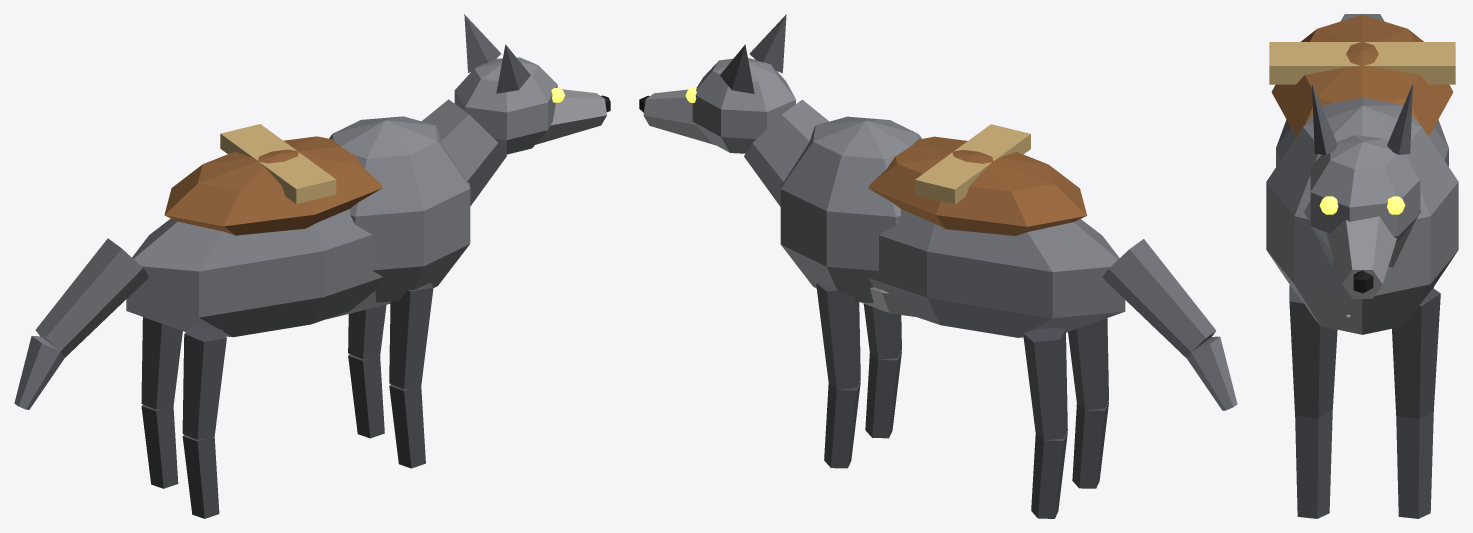
The model's file is wolf.glb.
The picture shows the model from 3 angles, left to right: view 1: azimuth 30°, elevation 25°; view 2: azimuth 150°, elevation 25°; view 3: azimuth 270°, elevation 25°; orthographic projection. The views are drawn at different scales.
Parts seen in each view (by area): view 1: body, pet_armor, head, tail, leg_br, leg_fr, leg_bl, leg_fl; view 2: body, pet_armor, head, tail, leg_bl, leg_fl, leg_br, leg_fr; view 3: body, pet_armor, head, leg_fl, leg_fr.
Boxes of the visible parts, box(x1,y1,x2,y2) form: body: box(126, 99, 506, 337); pet_armor: box(164, 124, 382, 235); head: box(454, 14, 610, 154); tail: box(14, 238, 148, 409); leg_br: box(182, 326, 226, 518); leg_fr: box(389, 283, 433, 468); leg_bl: box(141, 317, 182, 488); leg_fl: box(348, 305, 386, 438); body: box(744, 99, 1125, 337); pet_armor: box(868, 124, 1087, 235); head: box(639, 14, 795, 153); tail: box(1103, 239, 1237, 410); leg_bl: box(1023, 327, 1067, 518); leg_fl: box(816, 282, 860, 468); leg_br: box(1068, 318, 1108, 488); leg_fr: box(863, 304, 901, 438); body: box(1266, 98, 1458, 334); pet_armor: box(1269, 14, 1455, 136); head: box(1310, 84, 1420, 298); leg_fl: box(1392, 288, 1440, 518); leg_fr: box(1289, 285, 1337, 518).
Size of the model in its own units: 1.67 by 1.06 by 0.3804.
